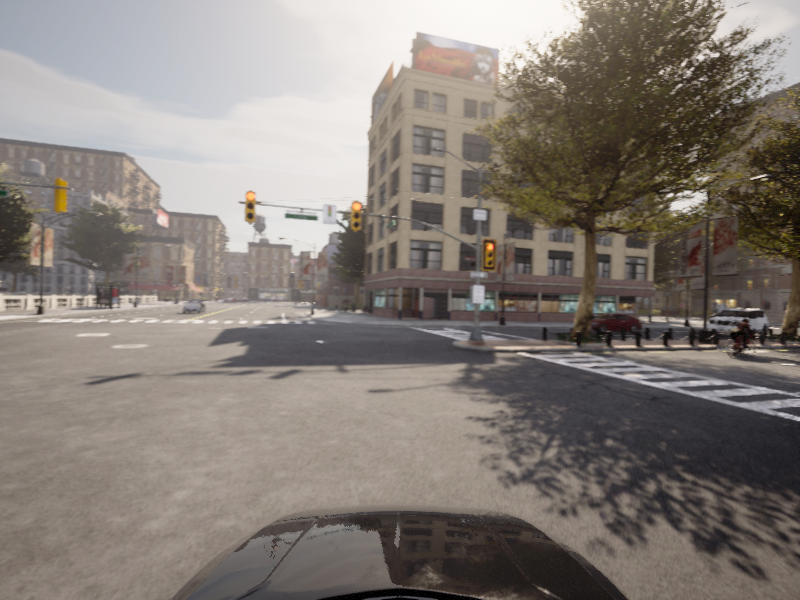vehicle: (703, 307, 772, 339), (719, 317, 764, 358), (574, 312, 646, 334), (180, 298, 207, 314)
